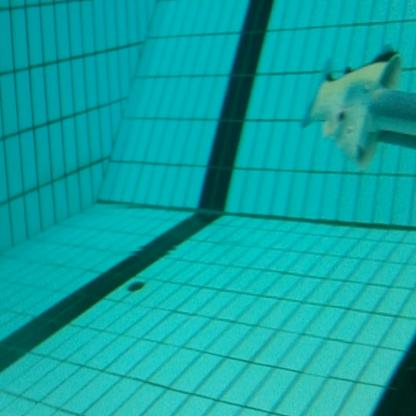tail: (299, 38, 406, 168)
